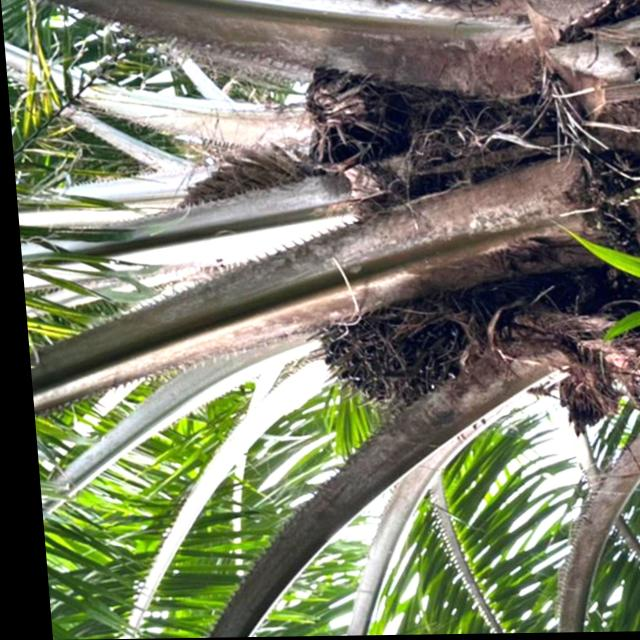unripe: (293, 280, 496, 416)
